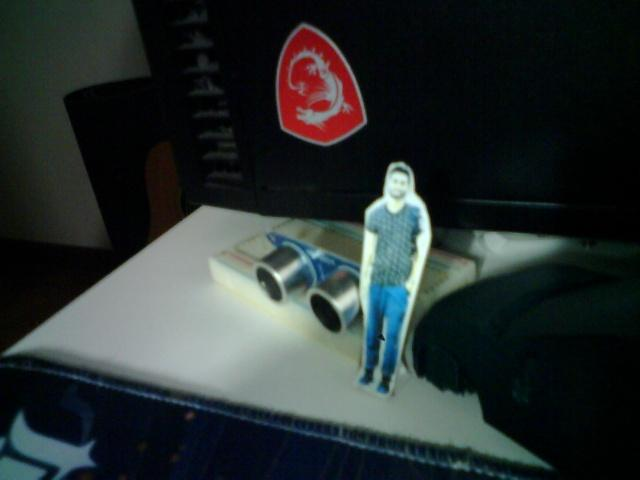person: (351, 143, 435, 403)
